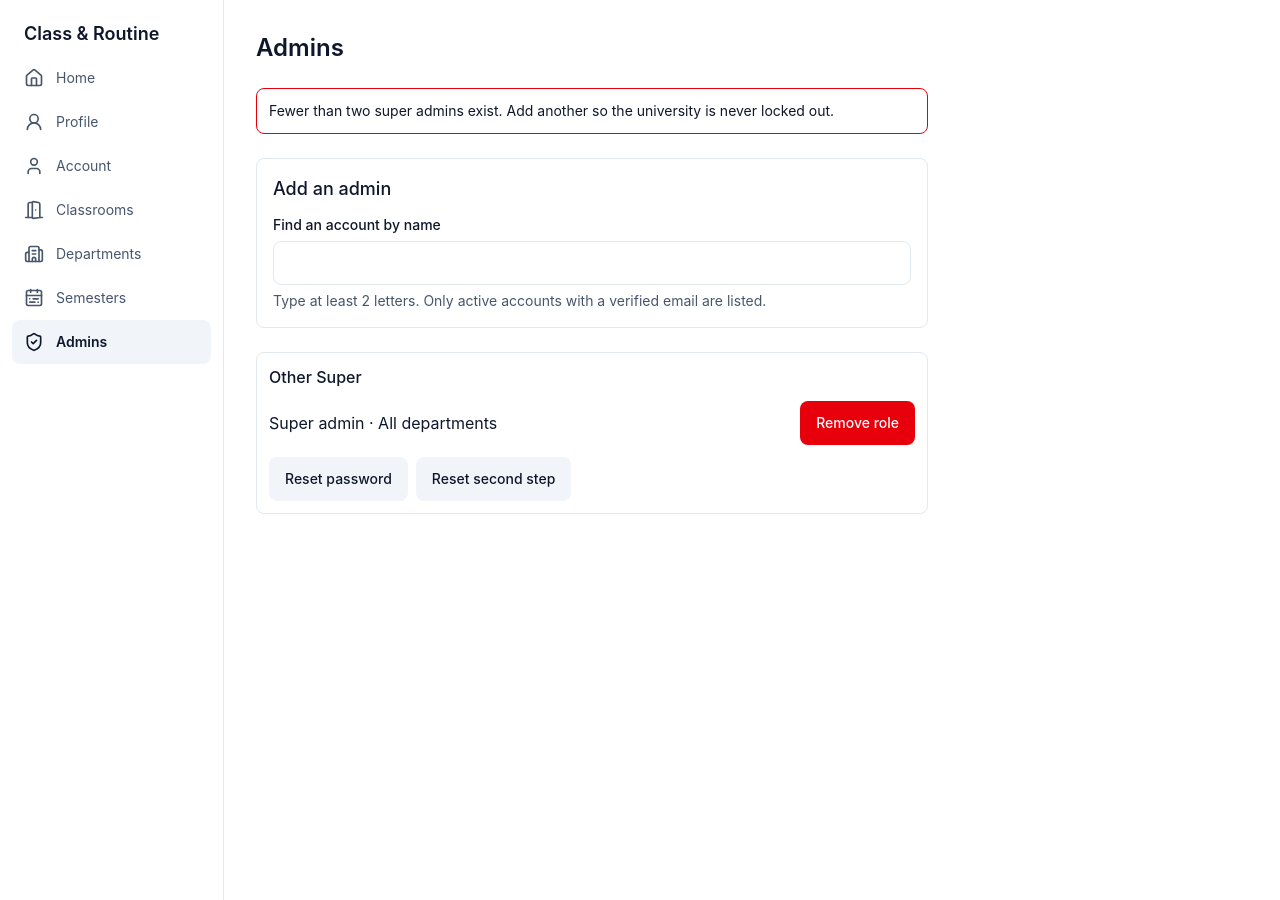
admin screens (spec 03) › DEP-07 removing a role shows LAST_SUPER_ADMIN as a sentence
The width and height of the screenshot is (1280, 900).
Step 1. Click the button "Remove role" → [858, 423], box [800,401,915,445]
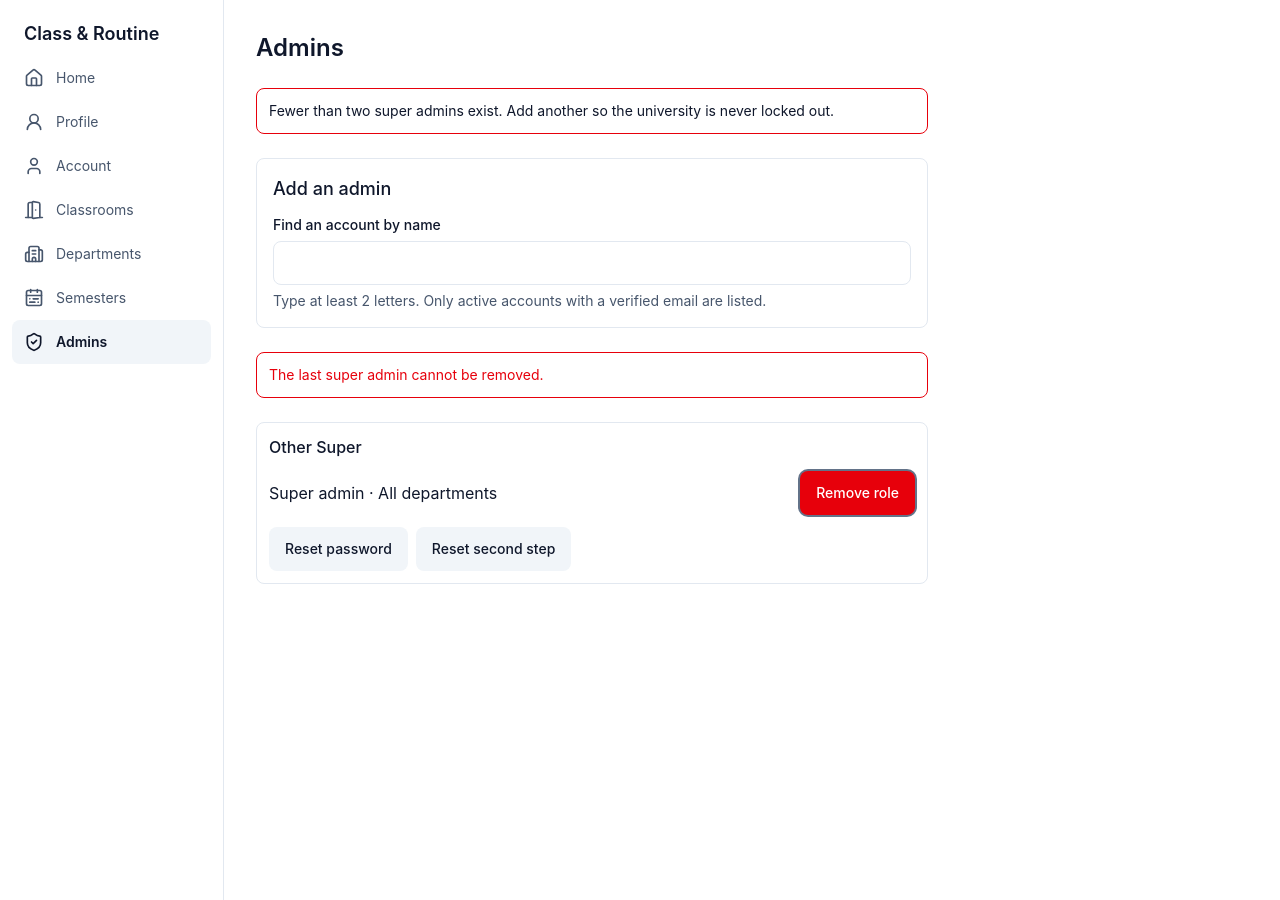
Expected: the text "The last super admin cannot be removed." is shown, [256,352,928,398]
